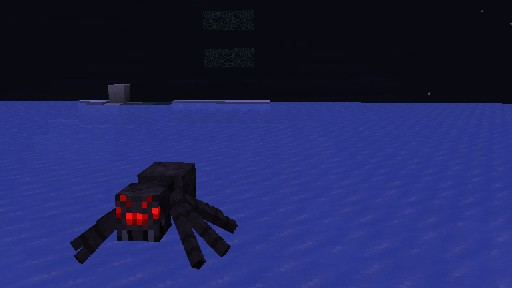spider: (69, 161, 237, 269)
